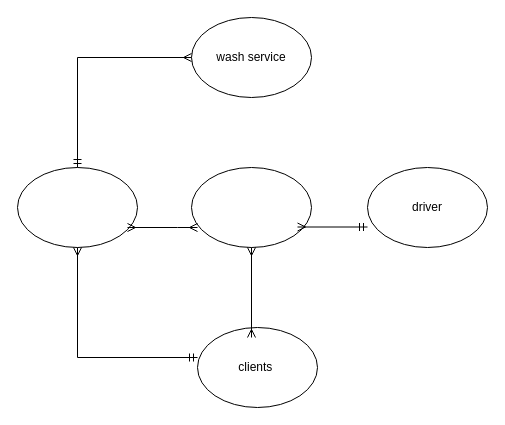
The diagram is 505 pixels wide and 425 high, and some of its shapes have lost their labels. The centre of each missing label's shape, as x and y in pixels:
"order" belongs at point (251, 207).
"Taxi" belongs at point (77, 207).
